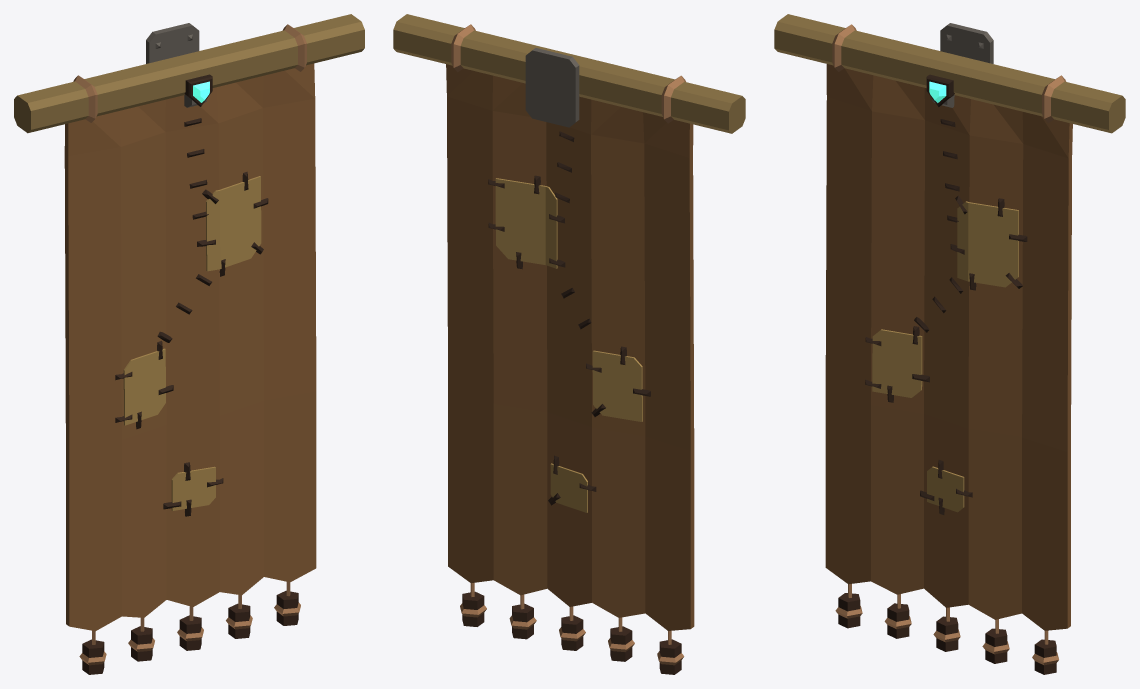
The model's file is rollable-hide-door-insert-007304.glb.
3 renders of one model, left to right at view 1: azimuth 30°, elevation 25°; view 2: azimuth 150°, elevation 25°; view 3: azimuth 330°, elevation 25°, orthographic.
Visible parts, largest first — view 1: cloth, crossbar-beam, weights-mesh, bracket, ties-rope; view 2: cloth, crossbar-beam, weights-mesh, bracket, ties-rope; view 3: cloth, crossbar-beam, weights-mesh, bracket, ties-rope.
Part boxes in pixels (<box>): cloth: <box>64,63,316,631</box>; crossbar-beam: <box>14,14,364,133</box>; weights-mesh: <box>79,582,300,674</box>; bracket: <box>146,23,206,107</box>; ties-rope: <box>73,24,306,122</box>; cloth: <box>446,64,694,630</box>; crossbar-beam: <box>393,14,745,133</box>; weights-mesh: <box>460,583,684,674</box>; bracket: <box>525,48,579,127</box>; ties-rope: <box>451,24,685,123</box>; cloth: <box>825,64,1072,630</box>; crossbar-beam: <box>774,14,1125,133</box>; weights-mesh: <box>835,584,1058,674</box>; bracket: <box>932,23,993,107</box>; ties-rope: <box>832,24,1066,123</box>.
Bounding box in the file's own units: 1.34 × 2.32 × 0.237.
